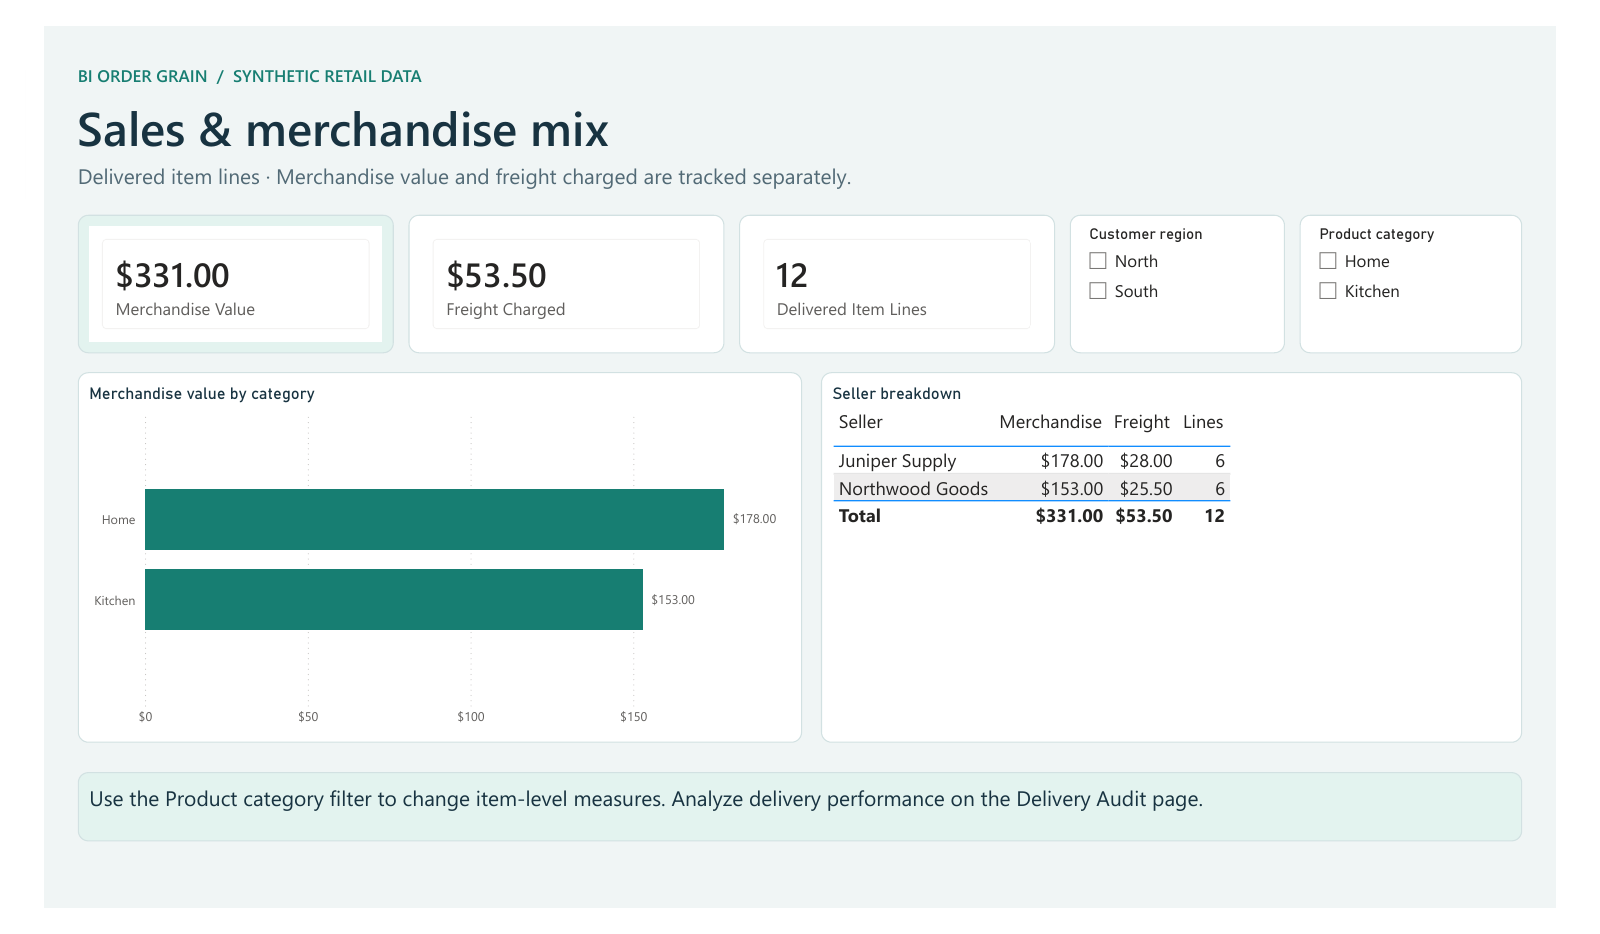

Layout of this report page (visuals, bound fields, positions):
{"tool":"powerbi","page":{"name":"Sales & Mix","canvas":[1440,820],"ordinal":0},"visuals":[{"type":"textbox","box":[32,17,1390,32],"z":0},{"type":"textbox","box":[32,46,1400,61],"z":1},{"type":"textbox","box":[32,109,1400,35],"z":2},{"type":"cardVisual","fields":{"Data":["FactOrderItem.Merchandise Value"]},"box":[32,160,301,132],"z":3},{"type":"cardVisual","fields":{"Data":["FactOrderItem.Freight Charged"]},"box":[347,160,301,132],"z":4},{"type":"cardVisual","fields":{"Data":["FactOrderItem.Delivered Item Lines"]},"box":[662,160,301,132],"z":5},{"type":"slicer","fields":{"Values":["DimCustomer.region"]},"box":[977,160,205,132],"z":6},{"type":"slicer","fields":{"Values":["DimProduct.category"]},"box":[1196,160,212,132],"z":7},{"type":"clusteredBarChart","title":"Merchandise value by category","fields":{"Category":["DimProduct.category"],"Y":["FactOrderItem.Merchandise Value"]},"box":[32,310,690,353],"z":8},{"type":"tableEx","title":"Seller breakdown","fields":{"Values":["DimSeller.seller_name","FactOrderItem.Merchandise Value","FactOrderItem.Freight Charged","FactOrderItem.Delivered Item Lines"]},"box":[740,310,668,353],"z":9},{"type":"textbox","box":[32,691,1376,66],"z":10}]}

Visuals, with their boxes in screenshot pixels (x1, y1, x2, y2), scaled from the page's 1440x820 canvas onto the 1600x934 screenshot:
textbox: 36/19/1580/56
textbox: 36/52/1591/122
textbox: 36/124/1591/164
cardVisual - FactOrderItem.Merchandise Value: 36/182/370/333
cardVisual - FactOrderItem.Freight Charged: 386/182/720/333
cardVisual - FactOrderItem.Delivered Item Lines: 736/182/1070/333
slicer - DimCustomer.region: 1086/182/1313/333
slicer - DimProduct.category: 1329/182/1564/333
"Merchandise value by category" clusteredBarChart: 36/353/802/755
"Seller breakdown" tableEx: 822/353/1564/755
textbox: 36/787/1564/862
